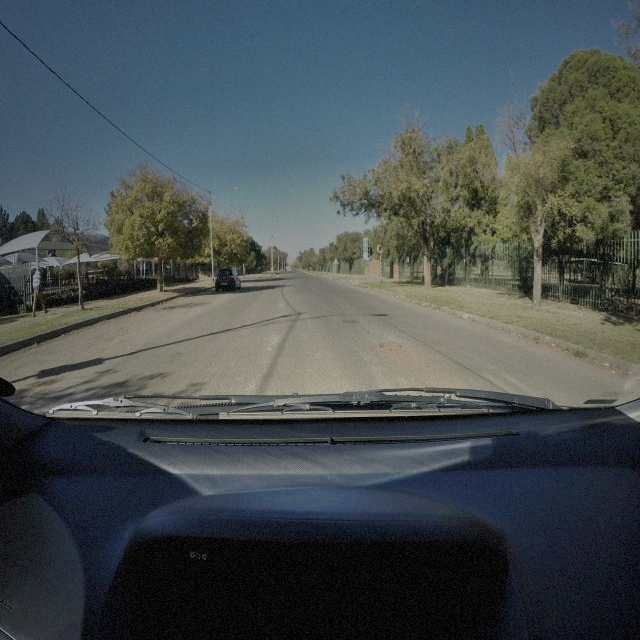pothole: (380, 339, 402, 353)
